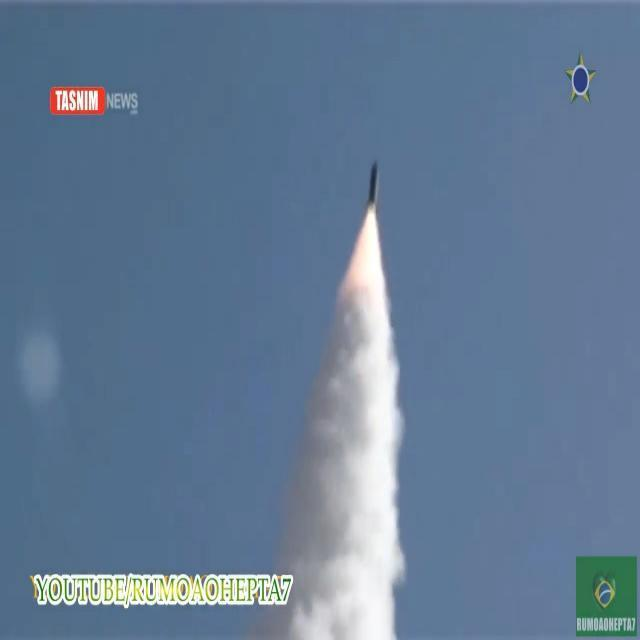Missile: (366, 149, 380, 231)
